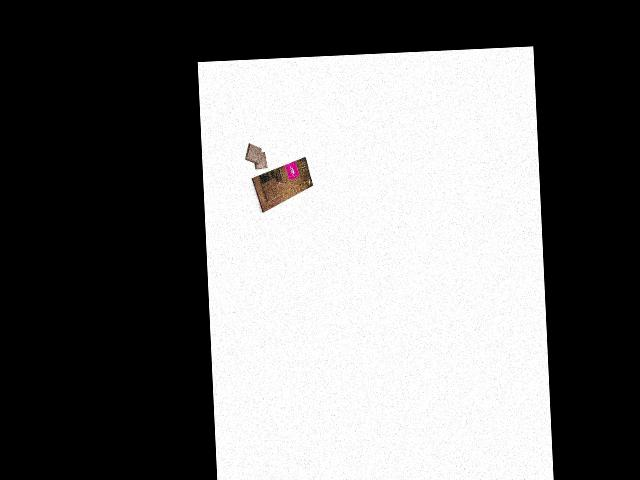chocolate: (249, 155, 315, 213)
